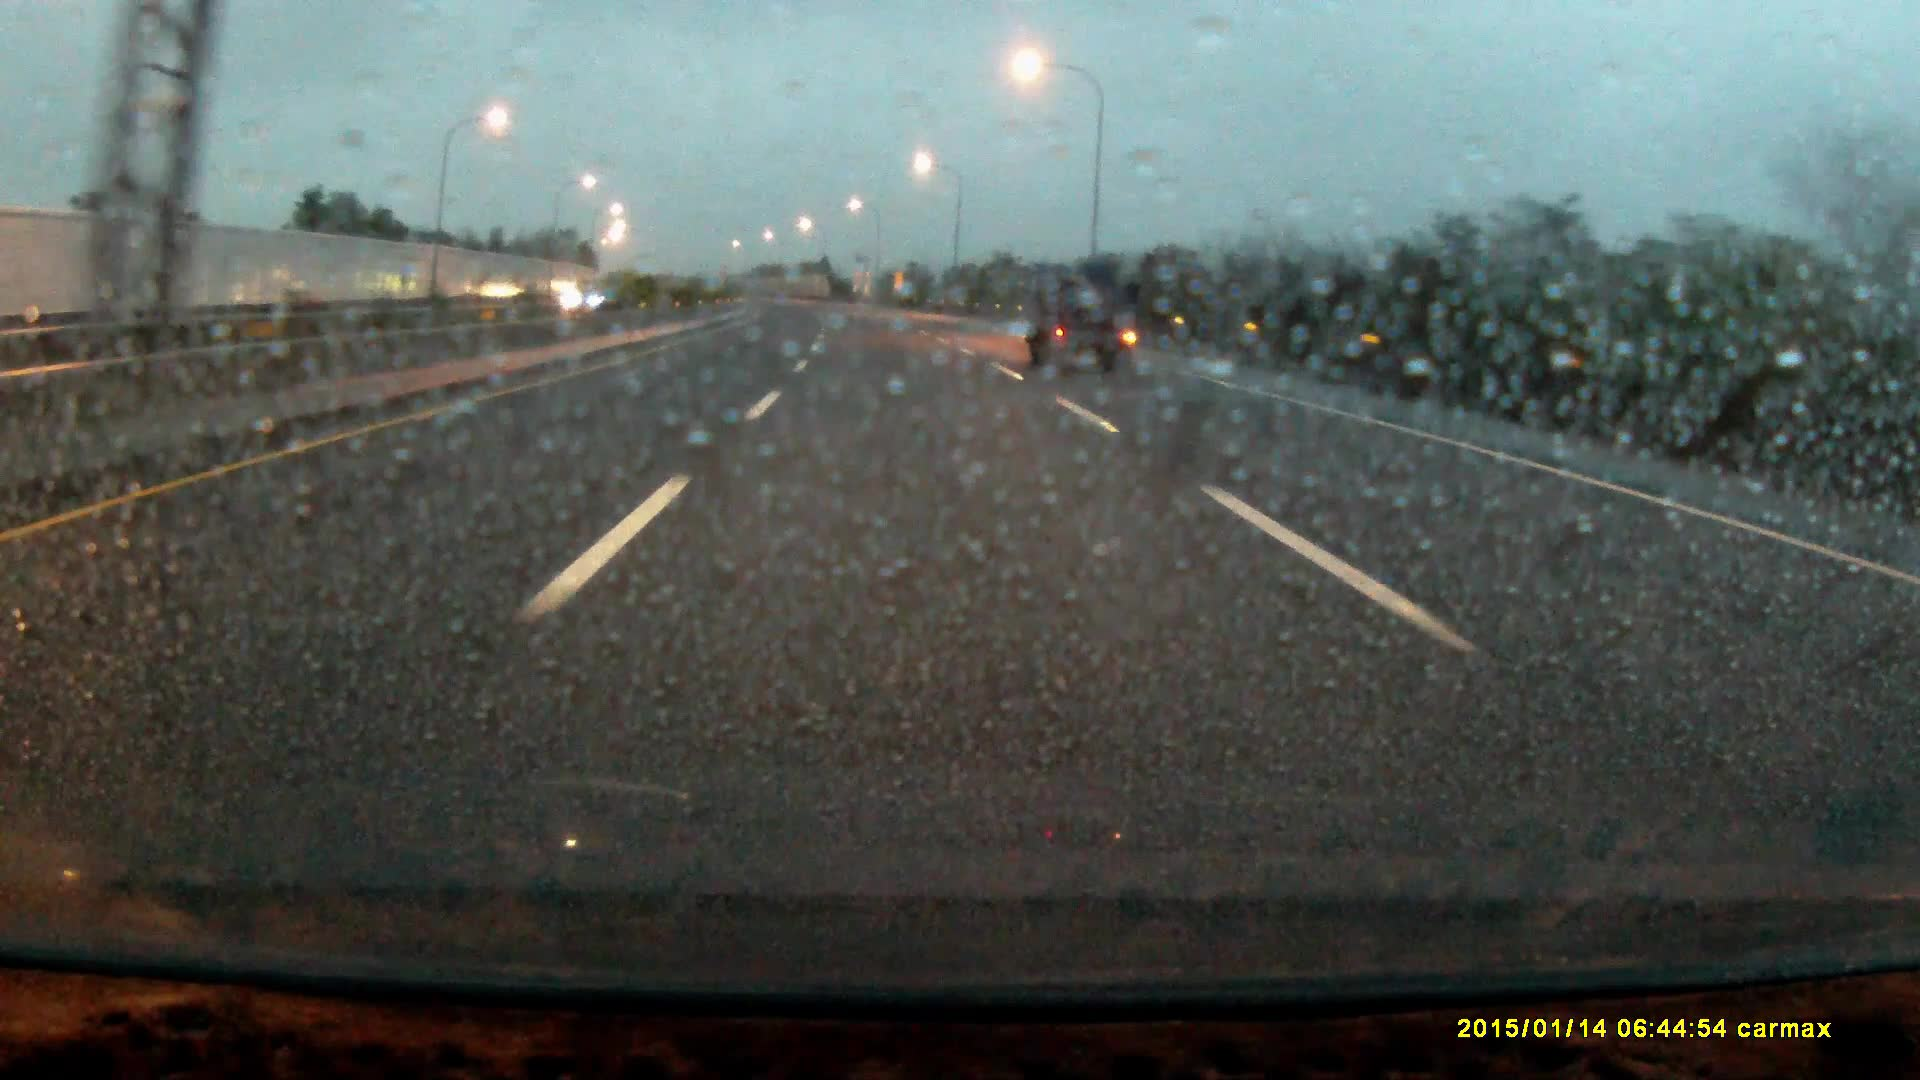vehicle: (1029, 273, 1135, 377), (553, 284, 607, 316)
